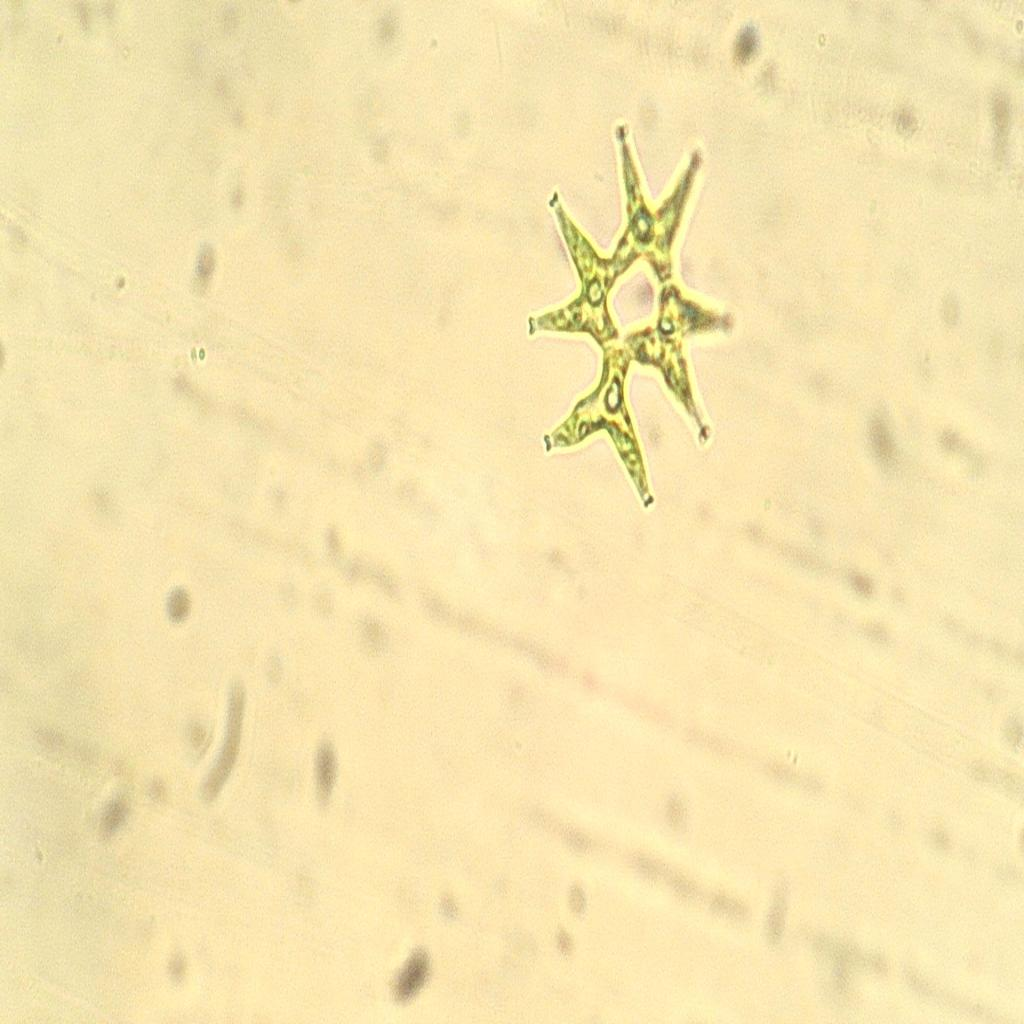Pediastrum_75FI: (513, 113, 749, 522)
